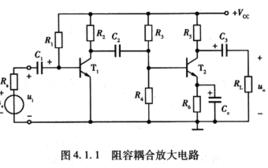cap1: (111, 43, 125, 59), (208, 91, 223, 105), (34, 60, 46, 76), (219, 43, 231, 59)
power1: (1, 92, 25, 116)
res1: (143, 85, 155, 107), (191, 93, 203, 115), (191, 22, 203, 43), (243, 74, 255, 95), (8, 71, 19, 92), (85, 23, 96, 43), (144, 23, 154, 44), (54, 30, 64, 50)
triode: (181, 56, 200, 80), (77, 56, 93, 81)
